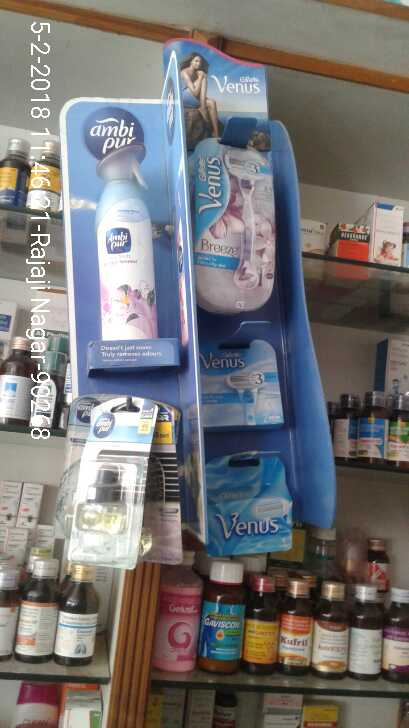beauty: (184, 130, 289, 319), (207, 460, 299, 552), (197, 345, 292, 429)
home: (77, 148, 172, 345), (67, 410, 180, 563)
